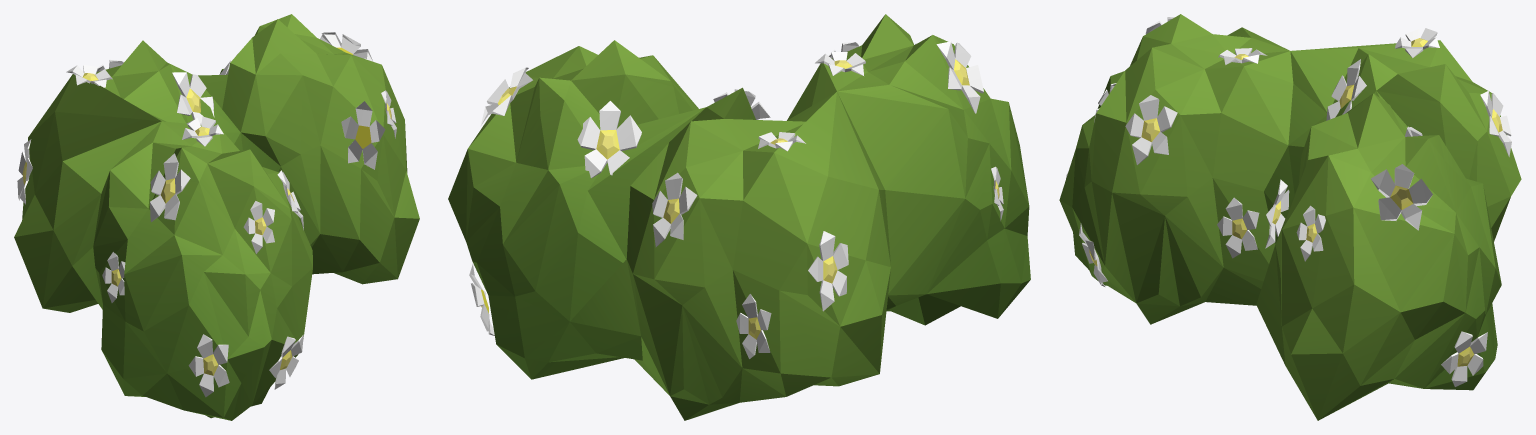
Rendered from corner wall short.fbx.
3 views of the same model, side by side, from view 1: azimuth 30°, elevation 25°; view 2: azimuth 150°, elevation 25°; view 3: azimuth 270°, elevation 25° (orthographic). The views are drawn at different scales.
Visible parts, largest first — view 1: group8_pasted__空白_pasted__Bush_big_flowers; view 2: group8_pasted__空白_pasted__Bush_big_flowers; view 3: group8_pasted__空白_pasted__Bush_big_flowers.
Boxes of the visible parts, x1=… form: group8_pasted__空白_pasted__Bush_big_flowers: x1=14, y1=14, x2=419, y2=420; group8_pasted__空白_pasted__Bush_big_flowers: x1=448, y1=14, x2=1030, y2=420; group8_pasted__空白_pasted__Bush_big_flowers: x1=1059, y1=14, x2=1521, y2=420.
Bounding box in the file's own units: 52.78 × 38.08 × 53.22.
3 materials, 3 textured.
